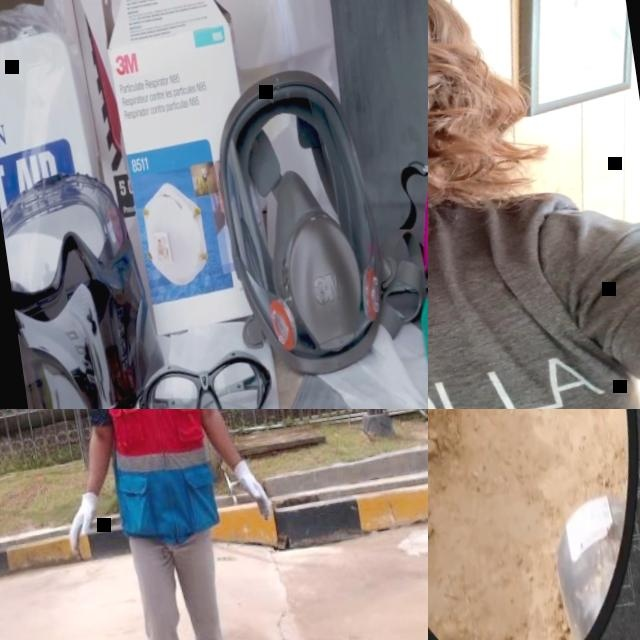Mask: (203, 65, 398, 383), (10, 256, 174, 409), (363, 97, 428, 329)
NO-Safety Vest: (428, 184, 640, 409)
Person: (428, 0, 640, 409), (24, 409, 307, 640)
Safety Vest: (84, 409, 217, 483)
